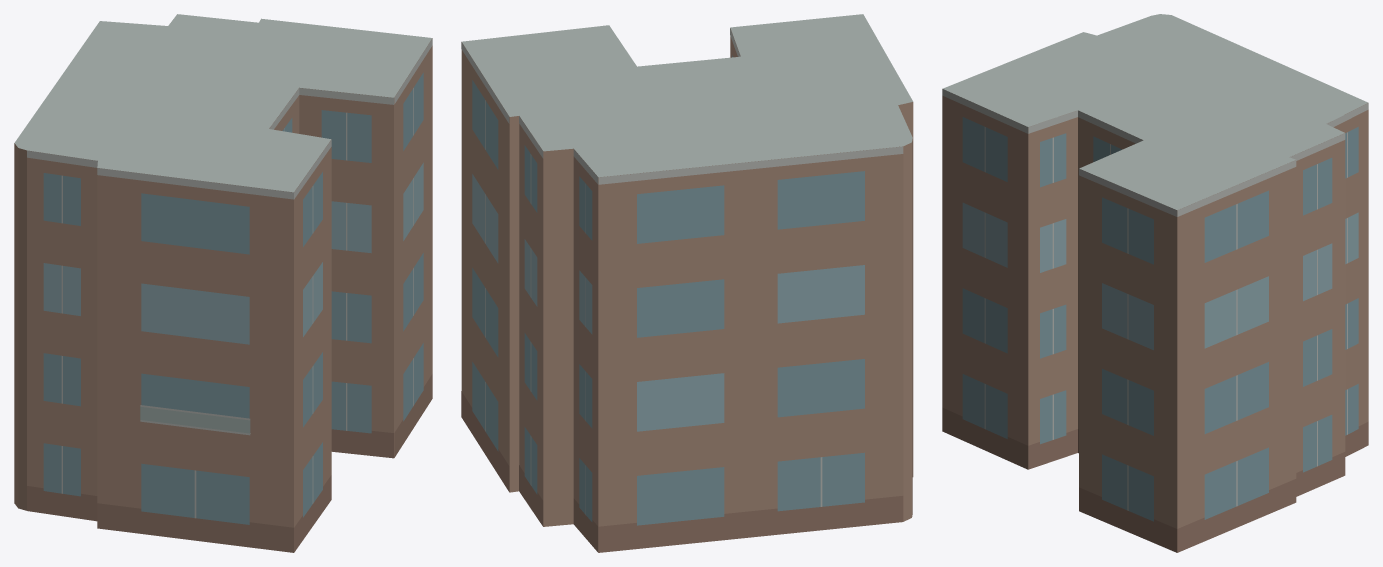
File: survey-upis-32595599.glb
The picture shows the model from 3 angles, left to right: view 1: azimuth 30°, elevation 25°; view 2: azimuth 150°, elevation 25°; view 3: azimuth 270°, elevation 25°; orthographic projection. The views are drawn at different scales.
Visible parts, largest first — view 1: survey-upis-32595599.tmp; view 2: survey-upis-32595599.tmp; view 3: survey-upis-32595599.tmp.
Part boxes in pixels (<box>): survey-upis-32595599.tmp: <box>14,14,432,552</box>; survey-upis-32595599.tmp: <box>461,14,913,552</box>; survey-upis-32595599.tmp: <box>942,14,1368,552</box>.
Size of the model in its own units: 15 by 12.2 by 13.76.
